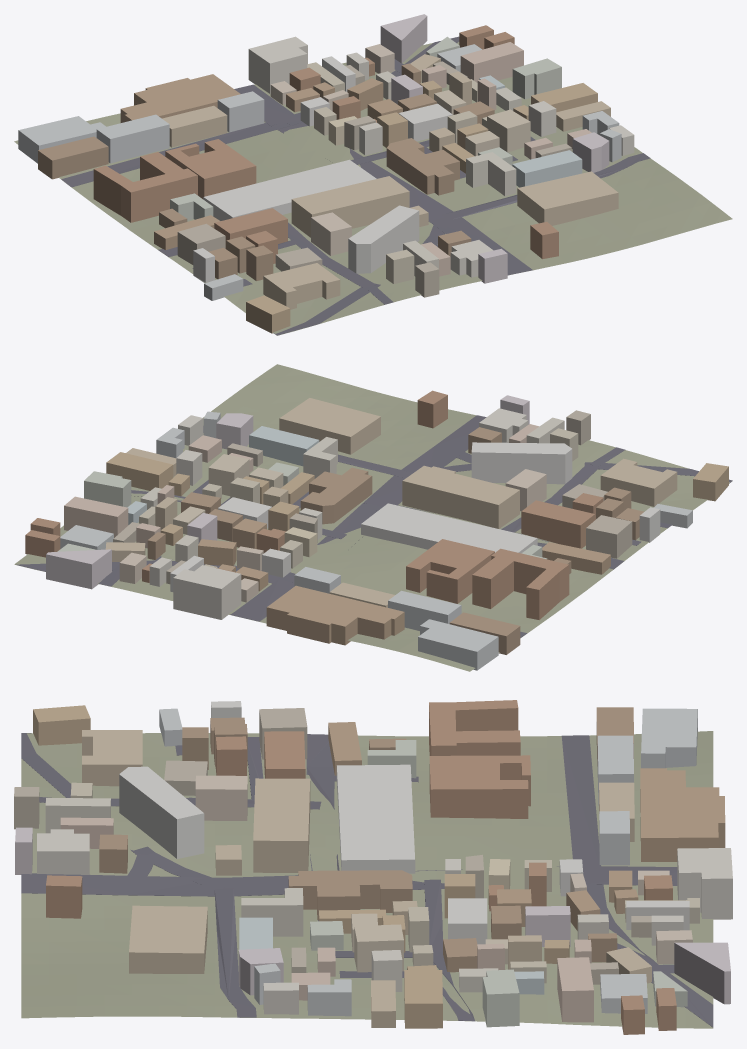
Rendered from chunk_7_6.glb.
The picture shows the model from 3 angles, top to bottom: view 1: azimuth 30°, elevation 25°; view 2: azimuth 150°, elevation 25°; view 3: azimuth 270°, elevation 25°; orthographic projection. The views are drawn at different scales.
Visible parts, largest first — view 1: geometry_103, geometry_43, geometry_101, geometry_9, geometry_27, geometry_44, geometry_102, geometry_0, geometry_25, geometry_1, geometry_48, geometry_51 (+54 smaller); view 2: geometry_103, geometry_44, geometry_9, geometry_43, geometry_101, geometry_0, geometry_102, geometry_27, geometry_51, geometry_45, geometry_25, geometry_11 (+54 smaller); view 3: geometry_103, geometry_101, geometry_44, geometry_102, geometry_9, geometry_27, geometry_0, geometry_43, geometry_25, geometry_109, geometry_51, geometry_45 (+78 smaller).
Boxes of the visible parts, left/top/right/bottom form: geometry_103: left=14, top=42, right=732, bottom=335; geometry_43: left=93, top=152, right=197, bottom=222; geometry_101: left=203, top=159, right=376, bottom=220; geometry_9: left=291, top=176, right=409, bottom=237; geometry_27: left=517, top=171, right=618, bottom=225; geometry_44: left=120, top=74, right=240, bottom=122; geometry_102: left=165, top=139, right=256, bottom=198; geometry_0: left=348, top=205, right=419, bottom=273; geometry_25: left=386, top=138, right=459, bottom=195; geometry_1: left=263, top=263, right=340, bottom=309; geometry_48: left=96, top=114, right=169, bottom=163; geometry_51: left=248, top=36, right=307, bottom=93; geometry_103: left=14, top=364, right=732, bottom=671; geometry_44: left=266, top=585, right=404, bottom=645; geometry_9: left=402, top=465, right=519, bottom=528; geometry_43: left=472, top=548, right=569, bottom=619; geometry_101: left=361, top=503, right=537, bottom=553; geometry_0: left=471, top=442, right=572, bottom=484; geometry_102: left=406, top=539, right=494, bottom=603; geometry_27: left=279, top=398, right=380, bottom=454; geometry_51: left=173, top=565, right=241, bottom=619; geometry_45: left=418, top=619, right=498, bottom=670; geometry_25: left=300, top=467, right=372, bottom=524; geometry_11: left=521, top=500, right=595, bottom=548; geometry_103: left=21, top=731, right=713, bottom=1028; geometry_101: left=336, top=764, right=415, bottom=873; geometry_44: left=640, top=768, right=725, bottom=861; geometry_102: left=429, top=755, right=530, bottom=818; geometry_9: left=253, top=778, right=310, bottom=872; geometry_27: left=129, top=905, right=207, bottom=973; geometry_0: left=119, top=766, right=204, bottom=858; geometry_43: left=429, top=700, right=520, bottom=755; geometry_25: left=288, top=870, right=412, bottom=919; geometry_109: left=561, top=735, right=600, bottom=875; geometry_51: left=677, top=848, right=732, bottom=919; geometry_45: left=641, top=708, right=697, bottom=768.
Bounding box in the file's own units: 264 × 18.94 × 260.
